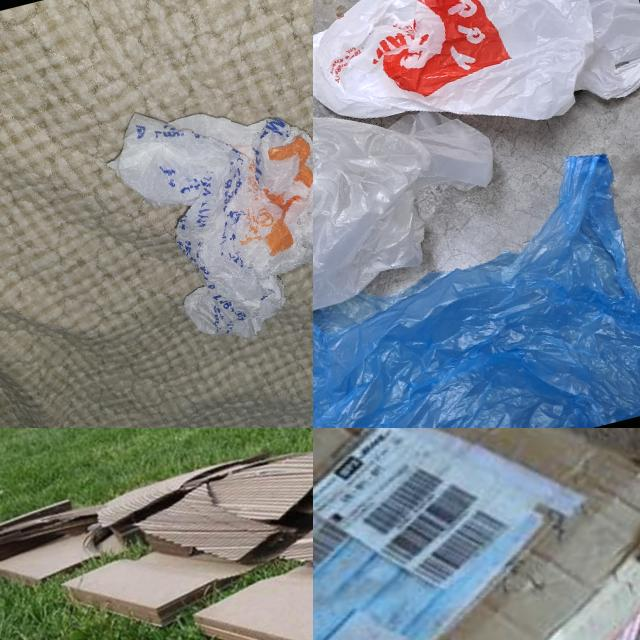papelão: (313, 428, 640, 640), (0, 428, 313, 640)
sacola plástica: (313, 142, 640, 428), (313, 0, 523, 340), (98, 51, 313, 363), (313, 0, 640, 178)
